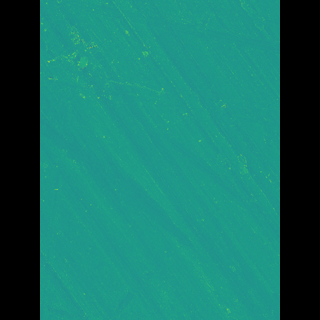Loch: (68, 104, 185, 320), (70, 0, 250, 57)
